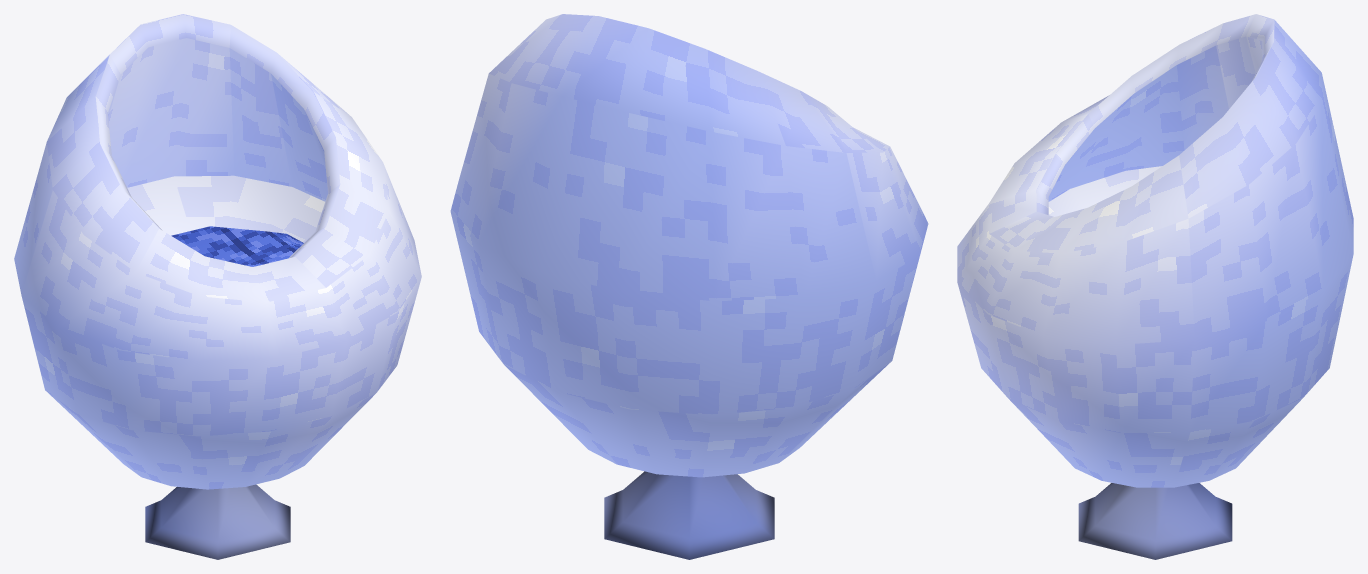
Rendered from furn.pod__egg.glb.
3 renders of one model, left to right at view 1: azimuth 30°, elevation 25°; view 2: azimuth 150°, elevation 25°; view 3: azimuth 270°, elevation 25°, orthographic. The views are drawn at different scales.
Visible parts, largest first — view 1: kit_pod_shell, kit_pod_feet, kit_pod_cushion; view 2: kit_pod_shell, kit_pod_feet; view 3: kit_pod_shell, kit_pod_feet.
Part boxes in pixels (x1,y1,x2,y2): kit_pod_shell: [14, 14, 421, 489]; kit_pod_feet: [145, 484, 290, 559]; kit_pod_cushion: [171, 226, 303, 266]; kit_pod_shell: [450, 14, 928, 477]; kit_pod_feet: [604, 471, 774, 559]; kit_pod_shell: [957, 14, 1353, 487]; kit_pod_feet: [1078, 483, 1232, 559].
Size of the model in its own units: 1.08 by 1.34 by 0.9808.
3 materials, 2 textured.
